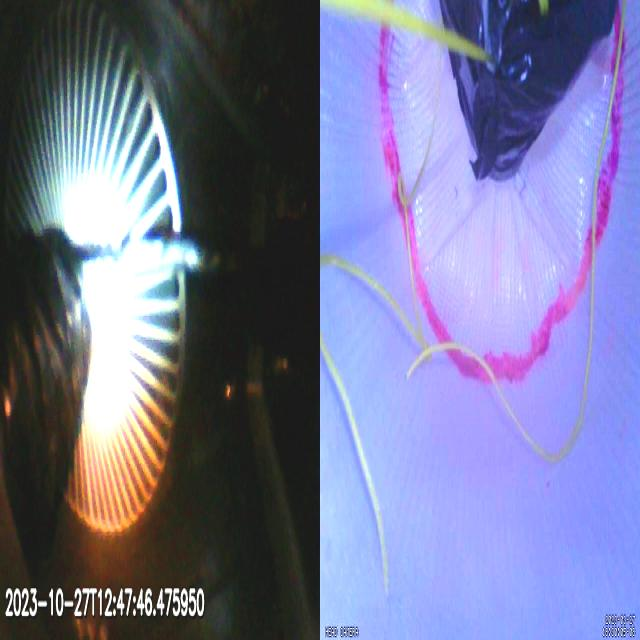red-circle: (379, 6, 626, 382)
